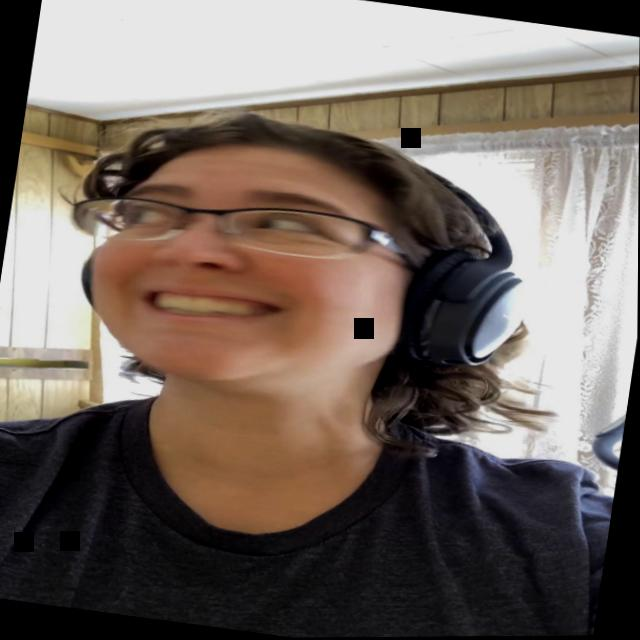NO-Mask: (71, 124, 426, 411)
